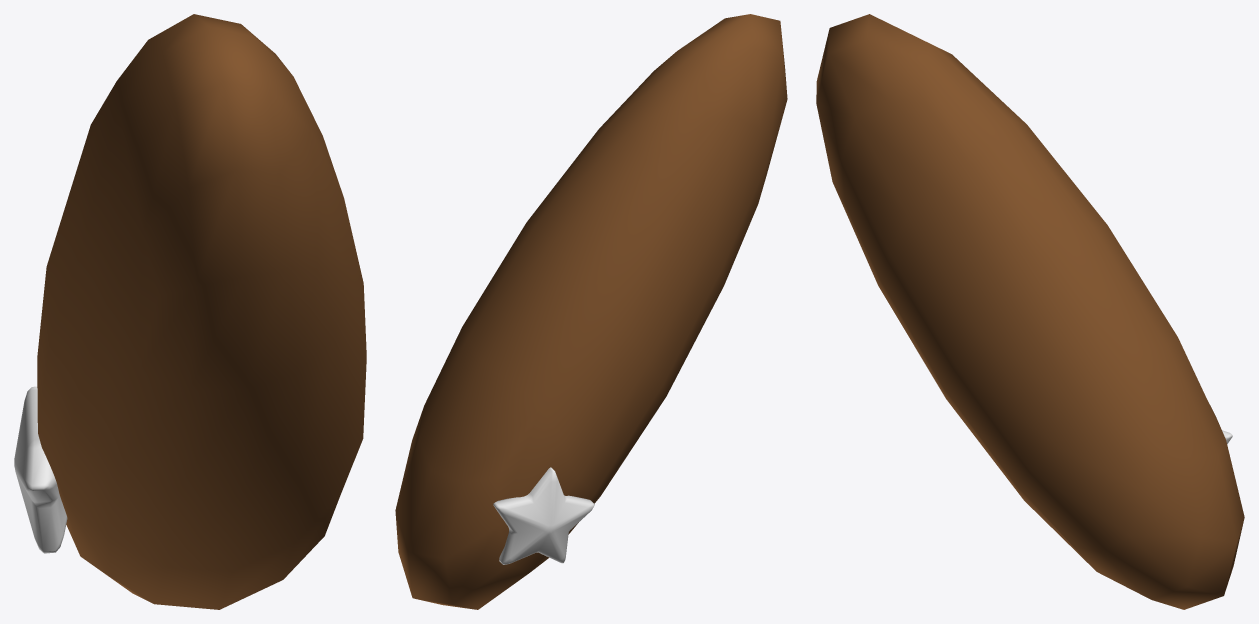
The model's file is DEFRightArmBearBear.fbx.
3 views of the same model, side by side, from view 1: azimuth 30°, elevation 25°; view 2: azimuth 150°, elevation 25°; view 3: azimuth 270°, elevation 25° (orthographic). The views are drawn at different scales.
Parts seen in each view (by area): view 1: RightArm, star.003; view 2: RightArm, star.003; view 3: RightArm.
Boxes of the visible parts, bbox=[...] form: RightArm: bbox=[37, 14, 366, 609]; star.003: bbox=[14, 386, 67, 553]; RightArm: bbox=[395, 14, 787, 609]; star.003: bbox=[493, 467, 594, 564]; RightArm: bbox=[816, 14, 1244, 609].
Size of the model in its own units: 41.66 by 86.55 by 64.55.
